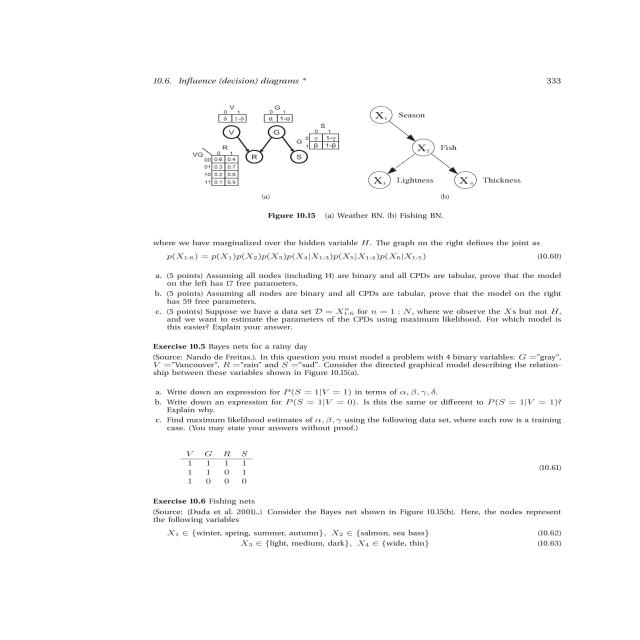diagram: (140, 69, 552, 232)
